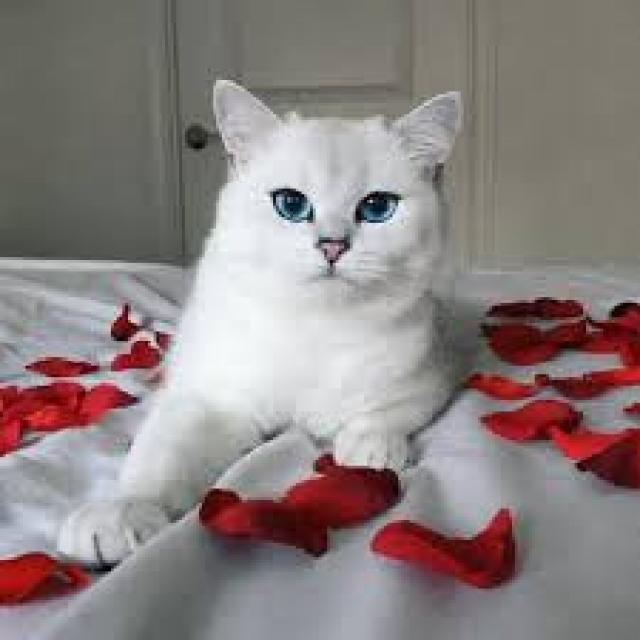Cat: (54, 76, 470, 567)
